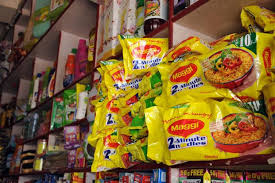maggie: (157, 35, 261, 98), (153, 105, 273, 158), (123, 34, 169, 73)
